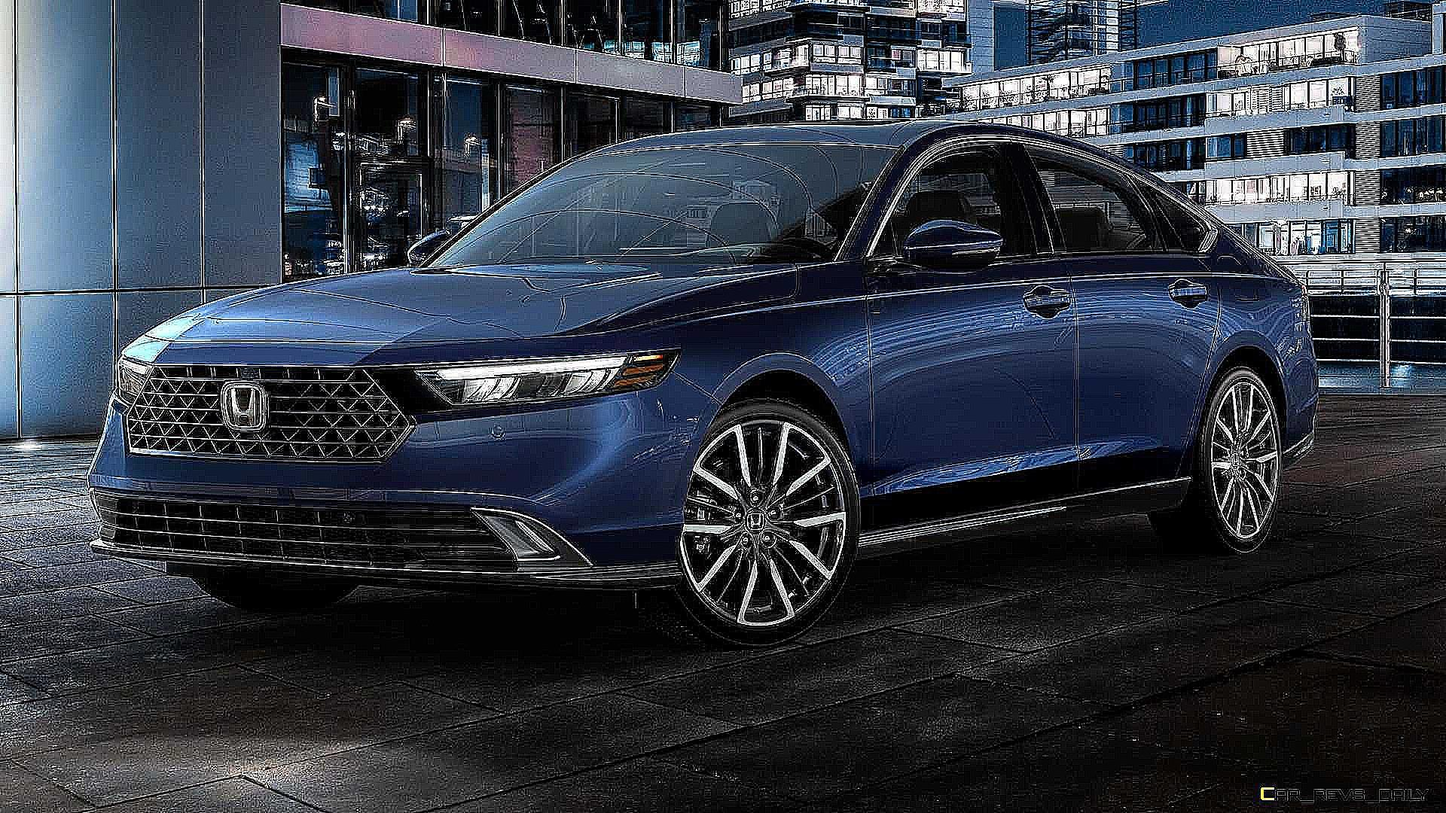Car hood: (116, 251, 840, 366)
Fender - -F-L-: (622, 223, 880, 431)
Fender - -R-L-: (1170, 212, 1321, 437)
Front bumper: (85, 368, 723, 598)
Headlight - -L-: (415, 343, 687, 432)
Headlight - -R-: (114, 350, 154, 404)
Passenger-s door - -F-L-: (841, 128, 1087, 517)
Passenger-s door - -R-L-: (1018, 127, 1224, 521)
Rear bumper: (1268, 350, 1321, 475)
Side bumper - -L-: (846, 435, 1204, 588)
Side mirror - -L-: (898, 216, 1002, 282)
Side mirror - -R-: (400, 227, 456, 275)
